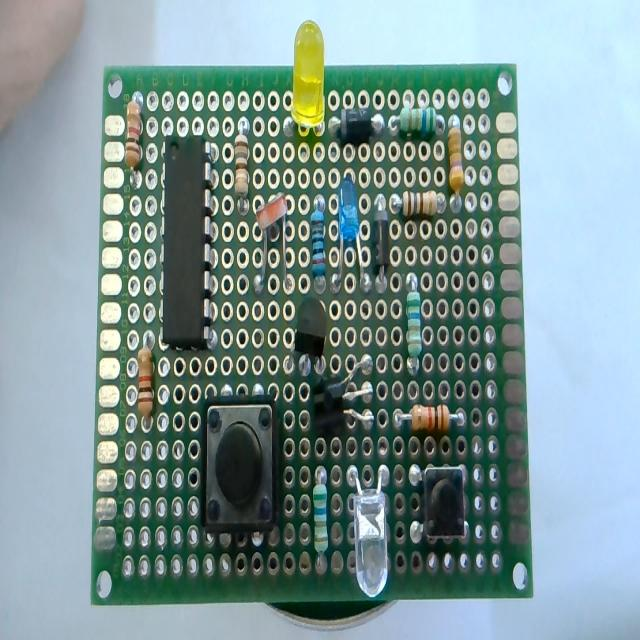IC: (154, 134, 221, 358)
cds: (252, 191, 293, 302)
diode: (330, 100, 384, 152), (370, 182, 396, 284)
led: (347, 463, 397, 597), (284, 20, 329, 138), (331, 171, 373, 289)
resistor: (396, 394, 478, 441), (132, 332, 162, 426), (407, 271, 430, 392), (444, 110, 470, 212), (305, 187, 327, 305), (309, 463, 331, 580), (383, 100, 443, 142), (225, 111, 249, 215), (393, 176, 445, 223), (123, 89, 146, 189)
switch: (200, 392, 292, 532)
transistor: (309, 368, 377, 444), (290, 294, 332, 379)
